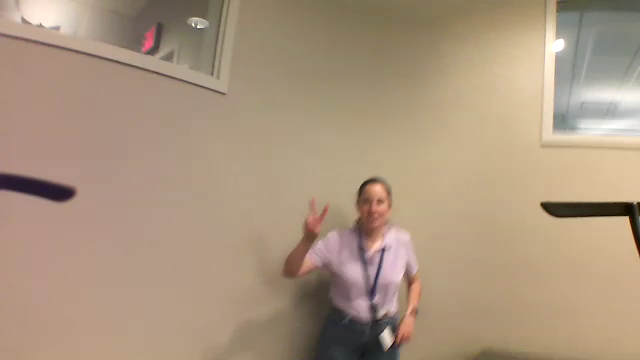peace: (294, 195, 336, 243)
